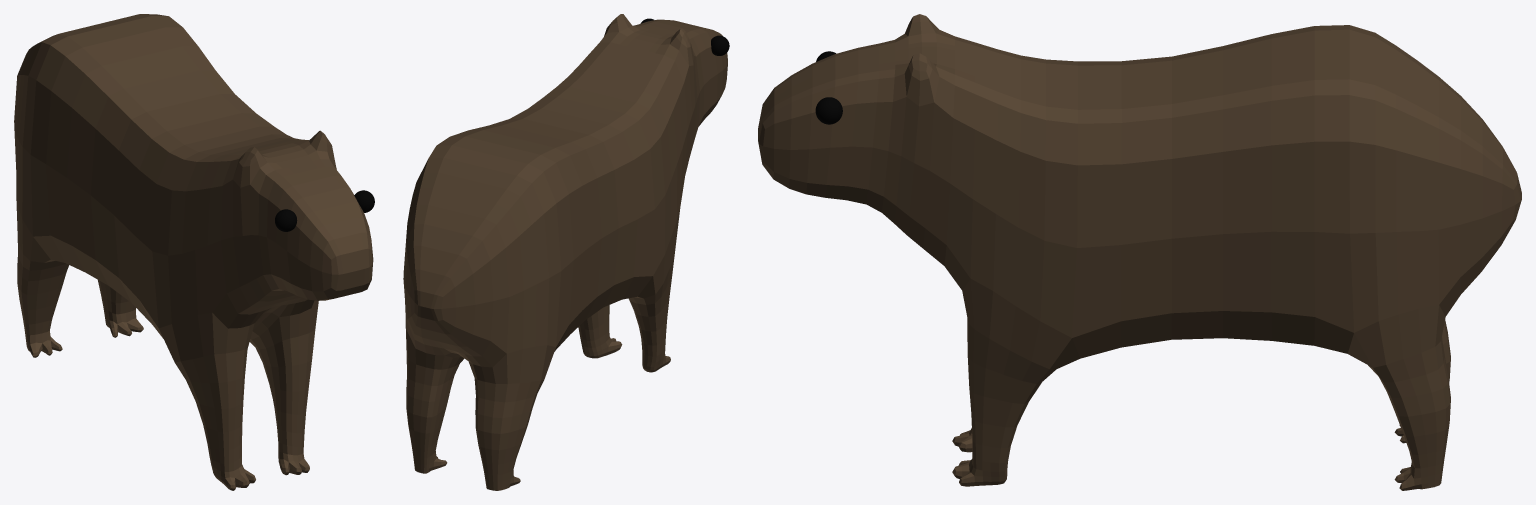
Rendered from capy.glb.
3 renders of one model, left to right at view 1: azimuth 30°, elevation 25°; view 2: azimuth 150°, elevation 25°; view 3: azimuth 270°, elevation 25°, orthographic. The views are drawn at different scales.
Visible parts, largest first — view 1: Body, Eyes; view 2: Body, Eyes; view 3: Body.
Part boxes in pixels (left/top/right/bottom): Body: left=14, top=14, right=373, bottom=490; Eyes: left=275, top=190, right=374, bottom=231; Body: left=403, top=14, right=727, bottom=490; Eyes: left=640, top=18, right=729, bottom=55; Body: left=758, top=14, right=1521, bottom=490.
Bounding box in the file's own units: 1.3 × 2.8 × 4.49.
